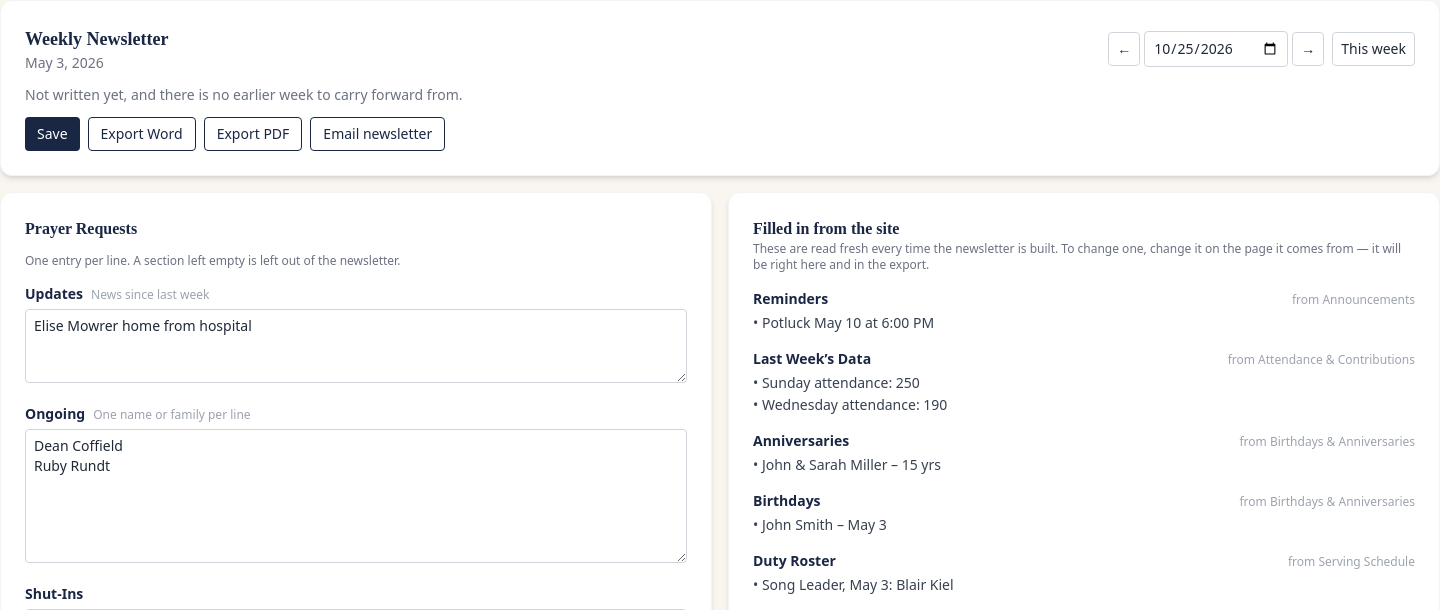
the weekly newsletter screen › emailing it › picks Announcements, says how many can be reached, and who cannot
Step 1. Click the button "Email newsletter" → (378,134), box [310, 117, 445, 151]
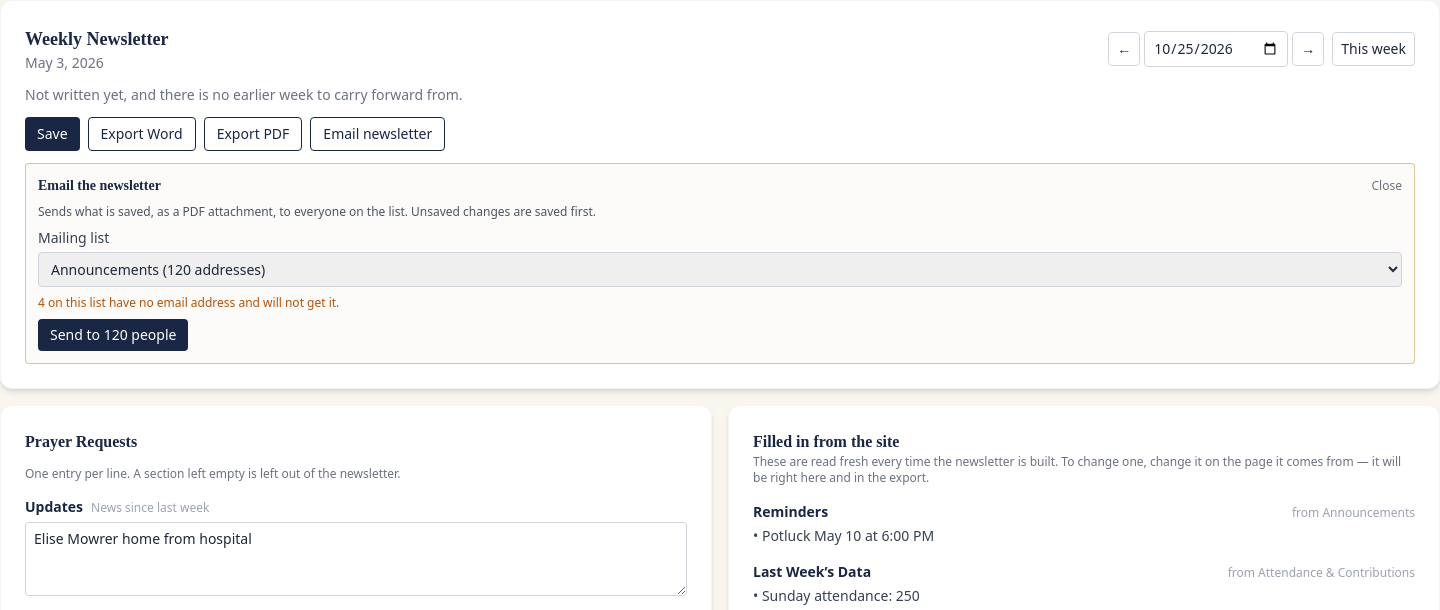
Check: the button "Send to 120 people" is shown, box [38, 319, 188, 351]
Check: the text "4 on this list have no email address and will not get it." is shown, box [38, 294, 339, 311]
Step 2. Select "Elders (3 addresses)" in the dropdown → (720,270), box [38, 252, 1402, 287]
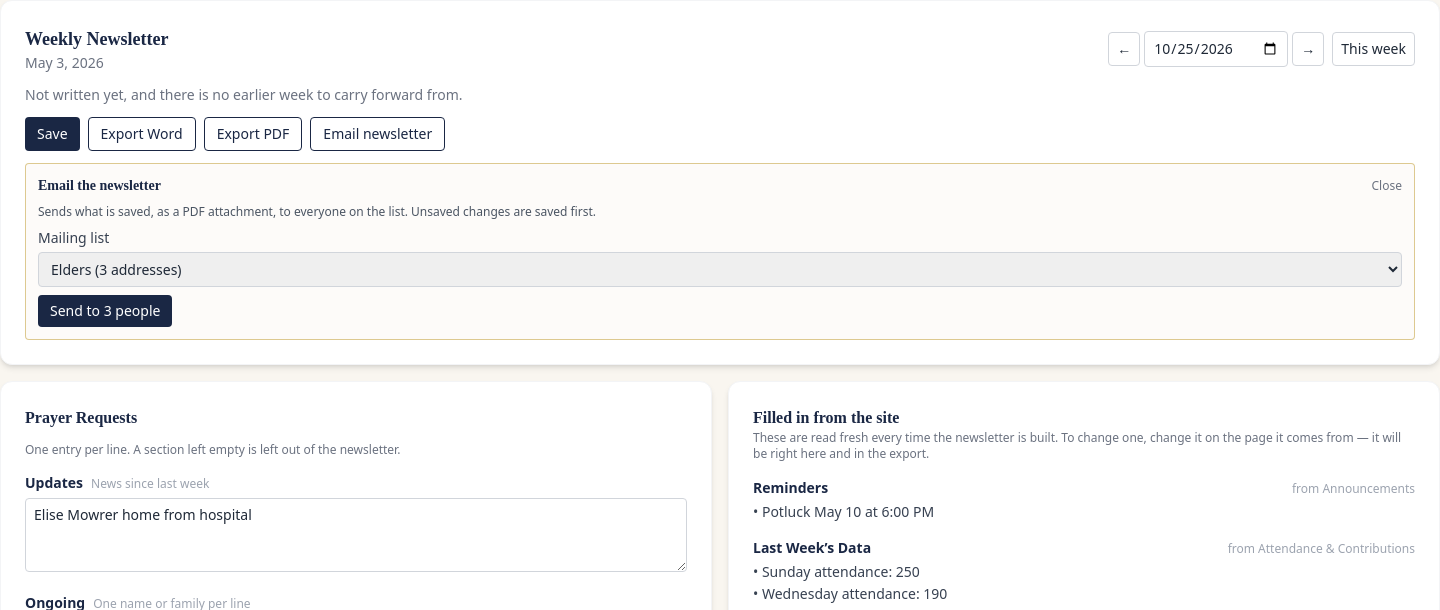
Check: the button "Send to 3 people" is shown, box [38, 295, 172, 327]
